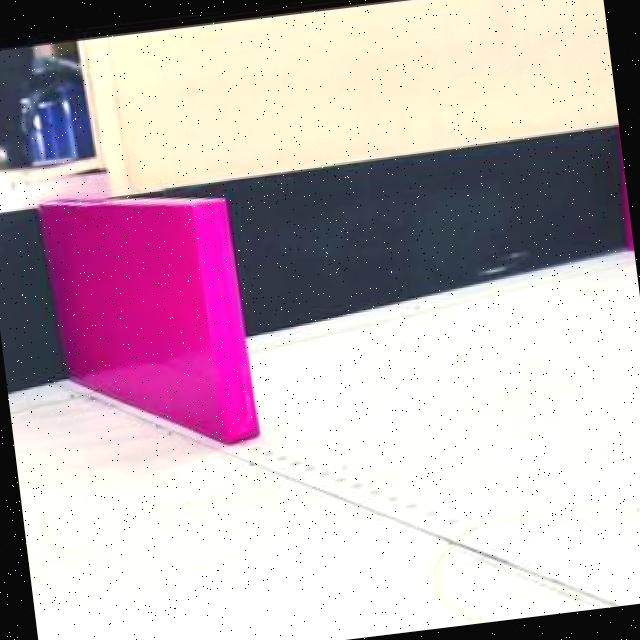xparking: (37, 197, 254, 456)
